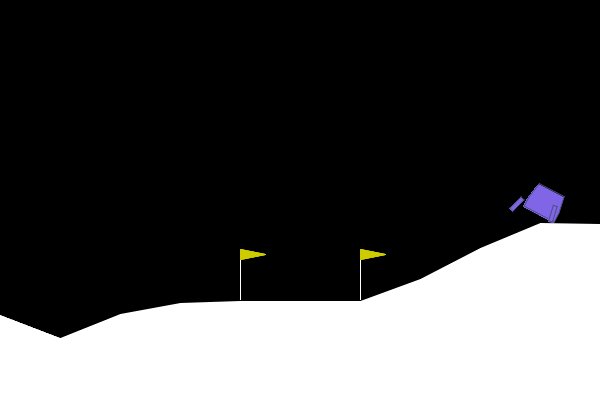lander: (507, 175, 579, 238)
